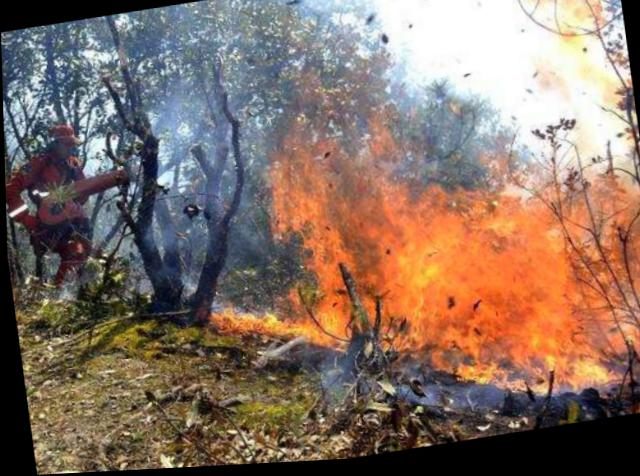fire: (231, 49, 639, 450)
